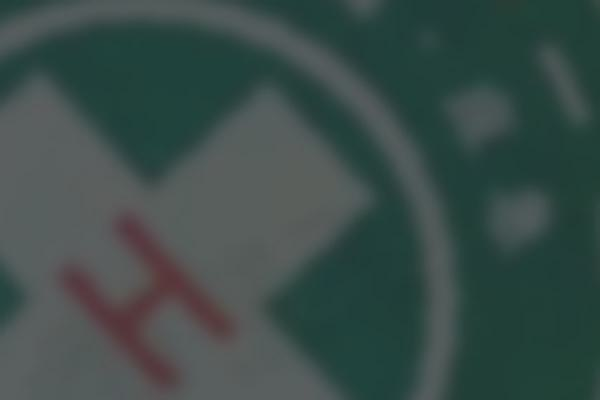Apron: (1, 1, 465, 399)
